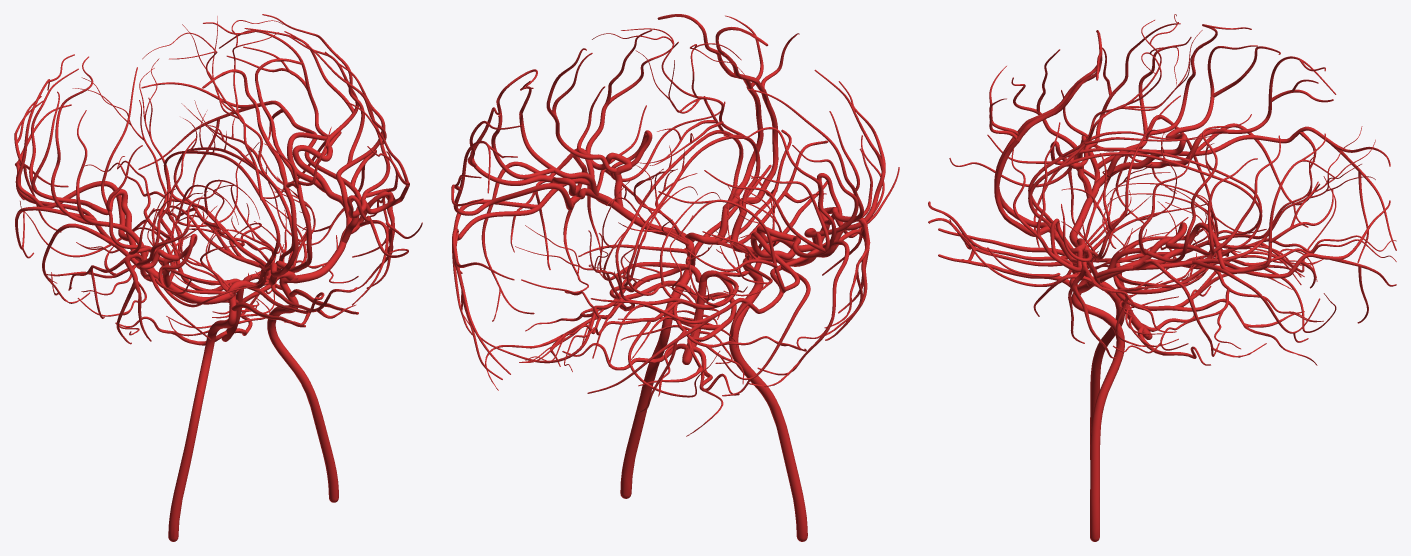
File: arteries.head.glb
3 views of the same model, side by side, from view 1: azimuth 30°, elevation 25°; view 2: azimuth 150°, elevation 25°; view 3: azimuth 270°, elevation 25° (orthographic). The views are drawn at different scales.
Visible parts, largest first — view 1: artery_of_central_sulcus, right_internal_carotid_artery, left_internal_carotid_artery, temporo_occipital_branch_of_left_middle_cerebral_artery, left_posterior_parietal_artery, right_posterior_parietal_artery, artery_of_right_precentral_sulcus, right_prefrontal_artery, temporo_occipital_branch_of_right_middle_cerebral_artery, right_anterior_temporal_artery, insular_part_of_left_middle_cerebral_artery, artery_of_left_precentral_sulcus (+26 smaller); view 2: artery_of_central_sulcus, right_internal_carotid_artery, left_internal_carotid_artery, temporo_occipital_branch_of_right_middle_cerebral_artery, temporo_occipital_branch_of_left_middle_cerebral_artery, right_posterior_parietal_artery, left_posterior_parietal_artery, artery_of_right_precentral_sulcus, left_prefrontal_artery, artery_of_left_precentral_sulcus, right_prefrontal_artery, right_anterior_temporal_artery (+28 smaller); view 3: artery_of_central_sulcus, left_internal_carotid_artery, temporo_occipital_branch_of_left_middle_cerebral_artery, temporo_occipital_branch_of_right_middle_cerebral_artery, left_posterior_parietal_artery, left_anterior_temporal_artery, right_internal_carotid_artery, right_posterior_parietal_artery, artery_of_left_precentral_sulcus, left_prefrontal_artery, left_pericallosal_artery, left_lateral_frontobasal_artery (+24 smaller).
Part boxes in pixels (x1,y1,x2,y2): artery_of_central_sulcus: (50,14,385,263); right_internal_carotid_artery: (168,292,236,541); left_internal_carotid_artery: (267,276,338,502); temporo_occipital_branch_of_left_middle_cerebral_artery: (138,82,361,200); left_posterior_parietal_artery: (203,22,329,192); right_posterior_parietal_artery: (16,54,128,241); artery_of_right_precentral_sulcus: (101,67,164,262); right_prefrontal_artery: (136,137,221,269); temporo_occipital_branch_of_right_middle_cerebral_artery: (15,104,140,269); right_anterior_temporal_artery: (68,255,151,344); insular_part_of_left_middle_cerebral_artery: (292,145,359,243); artery_of_left_precentral_sulcus: (284,31,398,210); artery_of_central_sulcus: (491,69,858,251); right_internal_carotid_artery: (729,255,807,541); left_internal_carotid_artery: (620,238,695,498); temporo_occipital_branch_of_right_middle_cerebral_artery: (587,240,835,413); temporo_occipital_branch_of_left_middle_cerebral_artery: (452,178,589,379); right_posterior_parietal_artery: (658,191,799,293); left_posterior_parietal_artery: (453,140,582,215); artery_of_right_precentral_sulcus: (748,89,872,225); left_prefrontal_artery: (585,30,678,174); artery_of_left_precentral_sulcus: (546,48,616,173); right_prefrontal_artery: (814,69,885,230); right_anterior_temporal_artery: (824,218,870,340); artery_of_central_sulcus: (1107,24,1251,269); left_internal_carotid_artery: (1071,273,1124,541); temporo_occipital_branch_of_left_middle_cerebral_artery: (1096,200,1396,323); temporo_occipital_branch_of_right_middle_cerebral_artery: (1094,126,1396,262); left_posterior_parietal_artery: (1141,133,1336,273); left_anterior_temporal_artery: (1068,263,1176,358); right_internal_carotid_artery: (1072,240,1124,459); right_posterior_parietal_artery: (1141,56,1336,168); artery_of_left_precentral_sulcus: (1061,95,1180,262); left_prefrontal_artery: (1011,122,1082,272); left_pericallosal_artery: (1028,140,1221,234); left_lateral_frontobasal_artery: (949,218,1073,286).
Bounding box in the file's own units: 0.1447 × 0.1964 × 0.179.
